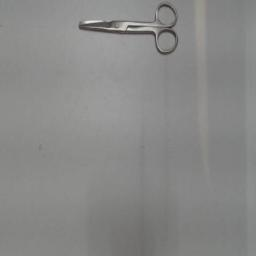Dressing Scissors: (70, 0, 182, 62)
